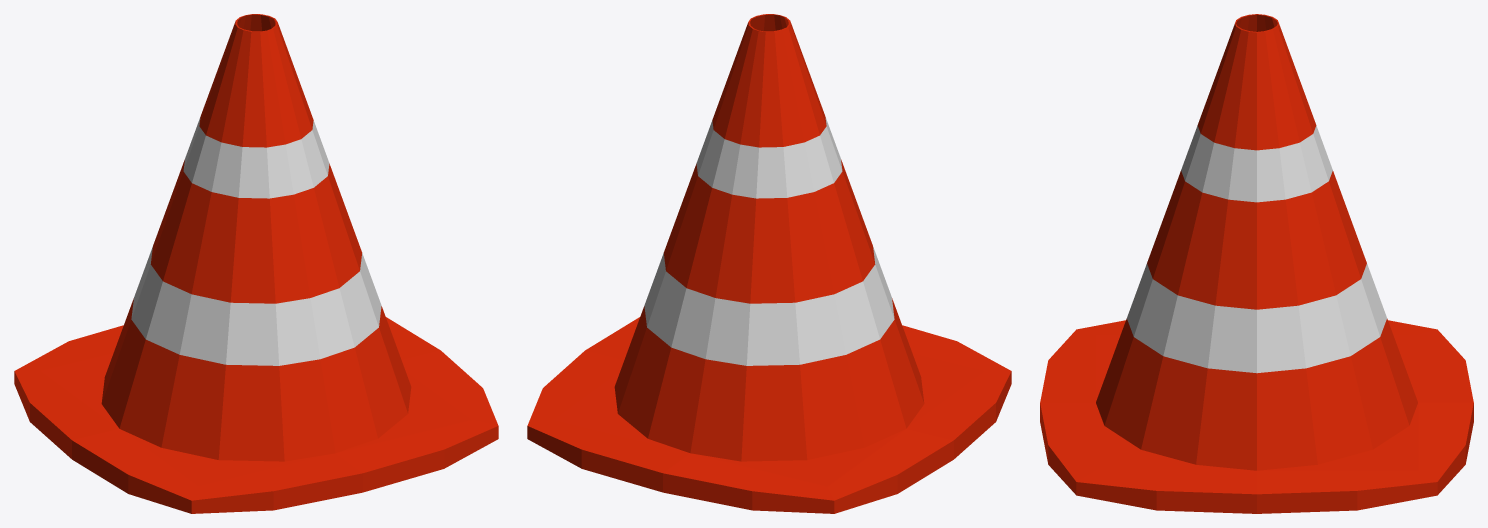
File: traffic_cone.fbx
The picture shows the model from 3 angles, left to right: view 1: azimuth 30°, elevation 25°; view 2: azimuth 150°, elevation 25°; view 3: azimuth 270°, elevation 25°; orthographic projection.
Parts seen in each view (by area): view 1: Cube; view 2: Cube; view 3: Cube.
Part boxes in pixels (x1,y1,x2,y2): Cube: [14, 14, 498, 513]; Cube: [527, 14, 1011, 513]; Cube: [1040, 14, 1473, 513].
Size of the model in its own units: 103 by 105 by 103.
